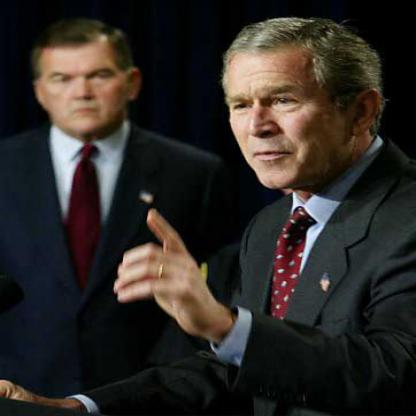face: (213, 27, 357, 194), (37, 27, 130, 133)
